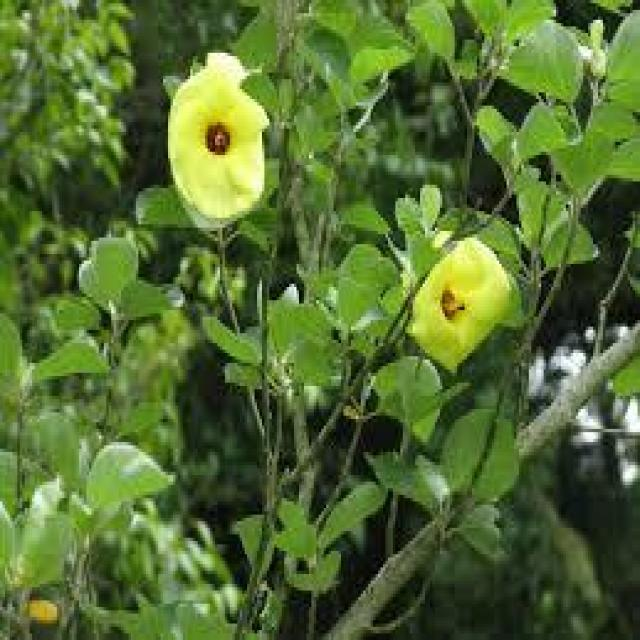organic waste: (153, 34, 274, 210), (399, 210, 513, 374)
